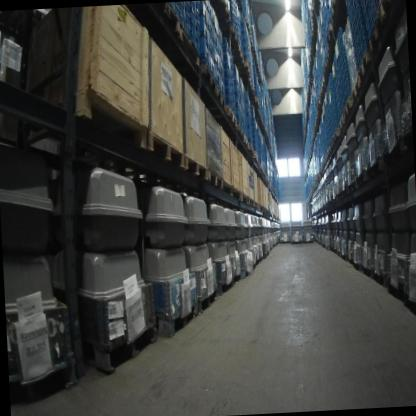pallet: (73, 81, 148, 152), (94, 319, 160, 377), (10, 354, 77, 406), (147, 129, 184, 170), (156, 305, 199, 339), (179, 25, 199, 68), (366, 7, 383, 51), (196, 285, 219, 314), (184, 152, 207, 180), (199, 61, 217, 95), (162, 2, 180, 34), (356, 50, 372, 83), (206, 167, 223, 190), (216, 274, 234, 295), (349, 77, 360, 104), (225, 104, 237, 127), (341, 97, 352, 120), (216, 83, 225, 110), (379, 0, 393, 16), (220, 0, 231, 20), (230, 23, 239, 46), (325, 23, 333, 45), (329, 0, 336, 23), (236, 122, 244, 139), (243, 60, 250, 77), (332, 128, 340, 142), (338, 115, 344, 133), (237, 46, 243, 63), (325, 45, 330, 63), (322, 61, 327, 78), (243, 134, 249, 148), (320, 76, 325, 91), (328, 138, 334, 150), (248, 143, 254, 154), (325, 146, 330, 157), (253, 151, 258, 162), (248, 77, 252, 90), (249, 197, 254, 206), (316, 99, 320, 110), (311, 23, 314, 36), (254, 200, 258, 208), (260, 163, 263, 170)
small_load_carrier: (198, 16, 211, 53), (199, 35, 211, 70), (198, 0, 210, 29), (179, 11, 190, 38), (190, 26, 200, 55), (189, 17, 199, 42), (179, 1, 189, 25), (189, 6, 199, 30), (188, 0, 199, 19), (169, 1, 180, 19), (210, 52, 216, 81), (215, 63, 221, 92), (210, 33, 215, 61), (215, 45, 220, 72), (209, 15, 214, 41), (214, 27, 219, 53), (219, 54, 224, 80), (220, 74, 225, 100), (217, 21, 222, 46), (218, 38, 223, 63), (209, 0, 213, 24), (181, 1, 189, 12), (221, 35, 223, 61), (193, 0, 198, 9), (205, 0, 209, 11)
